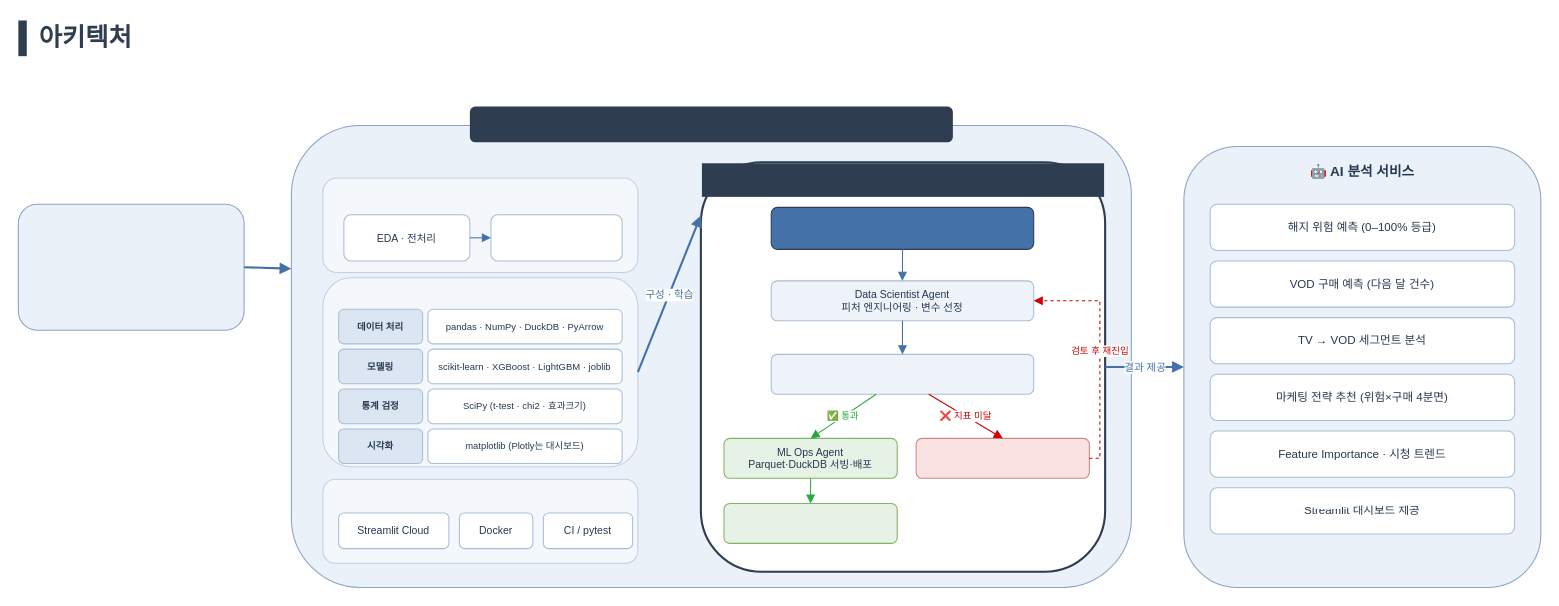
The diagram is 1559 pixels wide and 606 high, and some of its shapes have lost their labels. Here are the shapes that lost their labels. From the top down, the box of each, then its label:
(469, 106, 952, 142): LG헬로비전 ML 파이프라인 · 에이전트 설계
(701, 163, 1104, 196): 에이전트 오케스트레이션 흐름 (설계 · .github/agents)
(322, 177, 638, 272): Knowledge / 데이터
(490, 214, 622, 261): 학습 데이터셋 (Parquet) 해지(v1~v3) · VOD 구매 · 채널
(770, 206, 1034, 249): Control Agent (오케스트레이터) 흐름 · 라우팅
(17, 203, 244, 330): 📚 원본 데이터 TPS 해지 (CSV · 4기간) VOD 로그 (CSV · 10개월) VOD 마트 · 갤럽 조사 (CSV · JSON)
(322, 277, 638, 467): Tools
(770, 353, 1034, 394): Eval Agent 지표 검증 (PRC-AUC≥0.5 · R²≥0.6)
(915, 437, 1089, 478): Human-in-the-Loop 사람 개입 · 검토
(322, 478, 638, 563): DevOps
(723, 502, 897, 543): Web Agent Streamlit 대시보드
